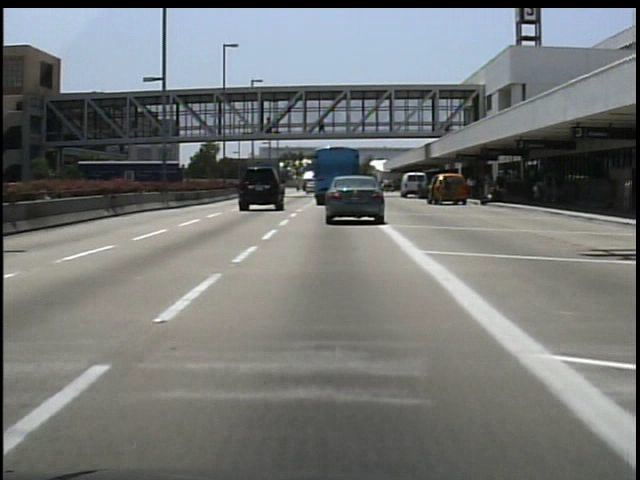person: (439, 177, 457, 212), (315, 115, 328, 140), (262, 113, 276, 136)
